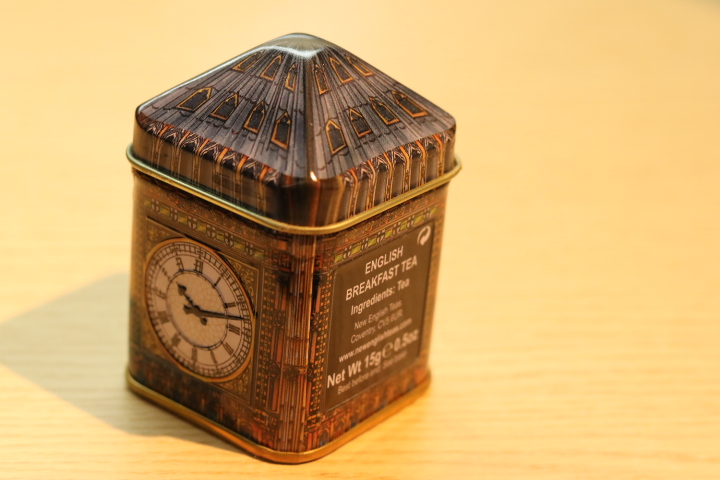Big Ben: (110, 15, 488, 472)
